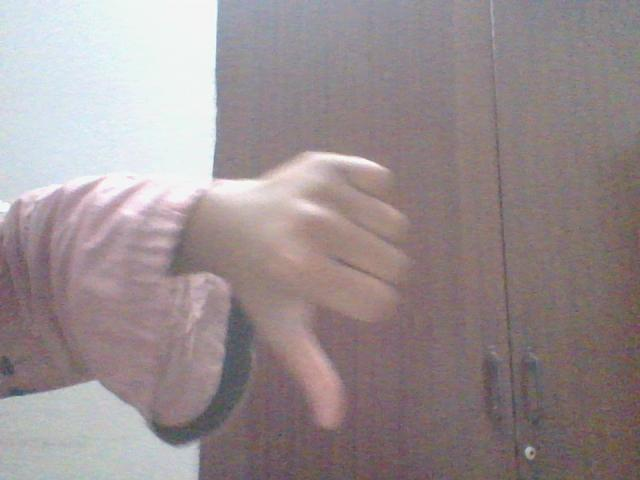thumbs-down: (256, 143, 422, 433)
